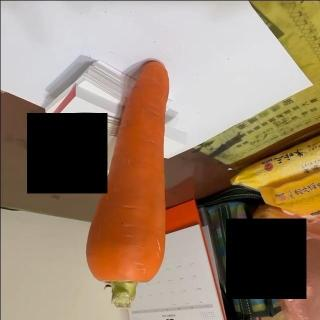carrot: (85, 59, 171, 308)
